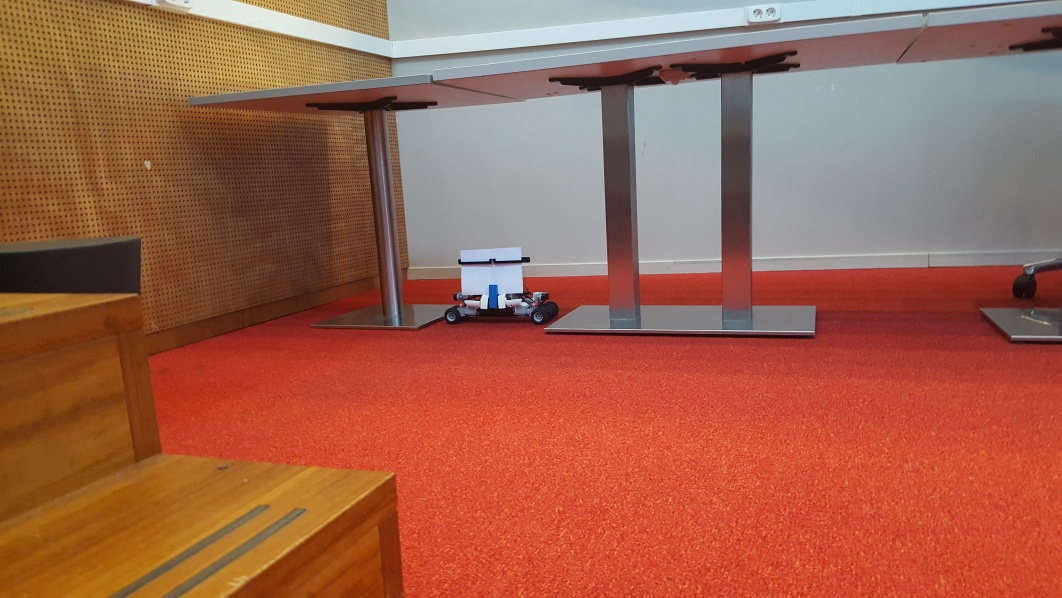car: (444, 247, 559, 326)
